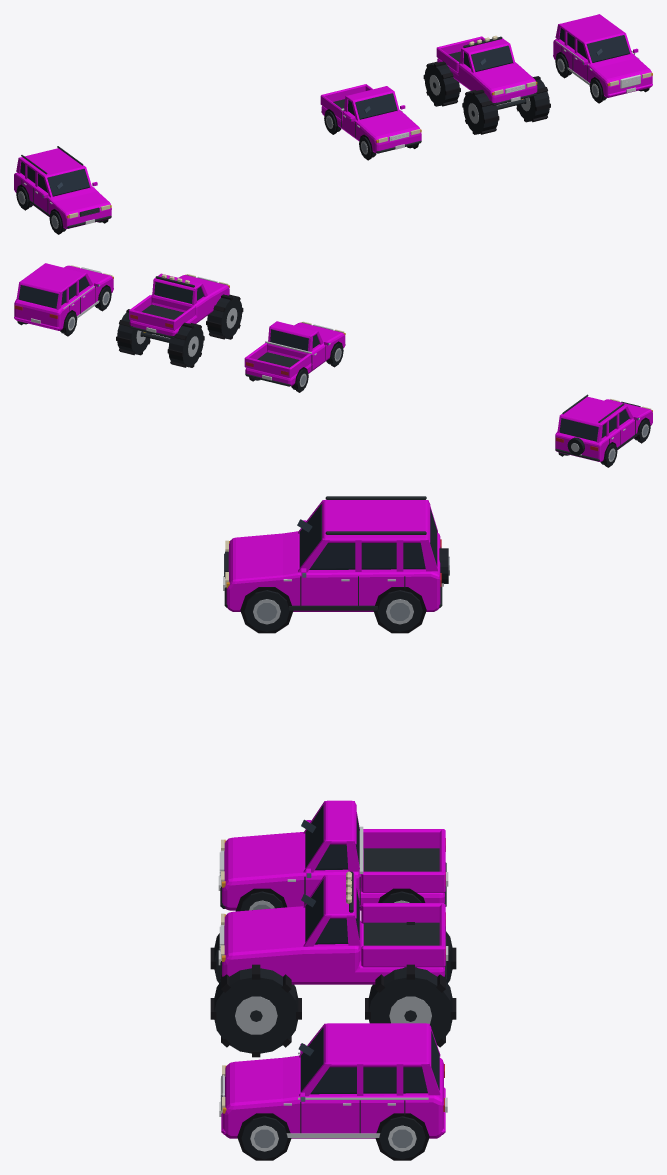
File: cars-large.glb
3 views of the same model, one above another, from view 1: azimuth 30°, elevation 25°; view 2: azimuth 150°, elevation 25°; view 3: azimuth 270°, elevation 25° (orthographic). The views are drawn at different scales.
Visible parts, largest first — view 1: monster_mesh, luxury_mesh, suv_mesh, pickup_mesh; view 2: monster_mesh, luxury_mesh, suv_mesh, pickup_mesh; view 3: monster_mesh, luxury_mesh, suv_mesh, pickup_mesh.
Part boxes in pixels (x1,y1,x2,y2): monster_mesh: (423,35,550,134); luxury_mesh: (553,14,652,103); suv_mesh: (14,146,111,234); pickup_mesh: (320,84,421,160); monster_mesh: (116,273,243,367); luxury_mesh: (14,263,113,336); suv_mesh: (555,394,652,467); pickup_mesh: (244,321,345,392); monster_mesh: (210,871,456,1057); luxury_mesh: (219,1023,447,1160); suv_mesh: (223,496,449,633); pickup_mesh: (218,800,448,911).
Size of the model in its own units: 23.11 by 2.61 by 4.14.
